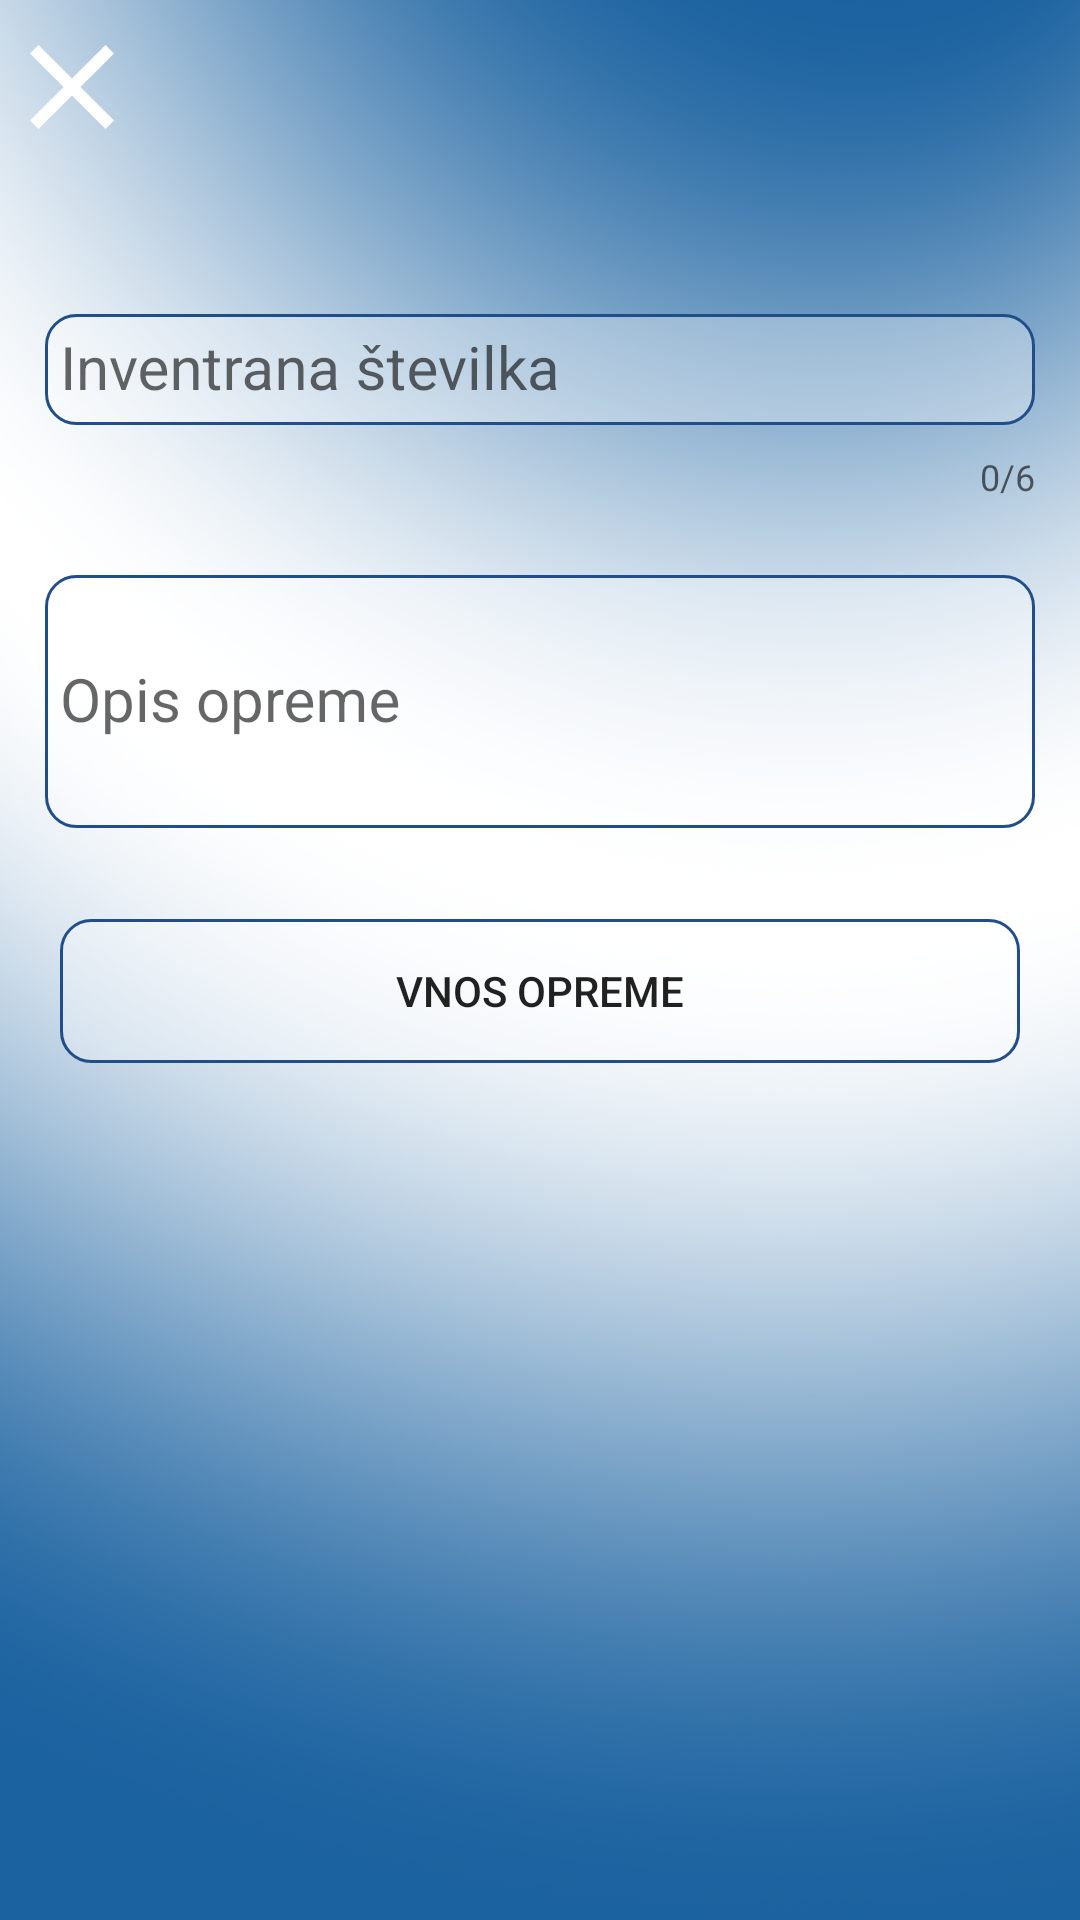

Where to tap for icons on this 1080w x 1920h app screen, as point (x, y):
frame close: point (57, 87)
